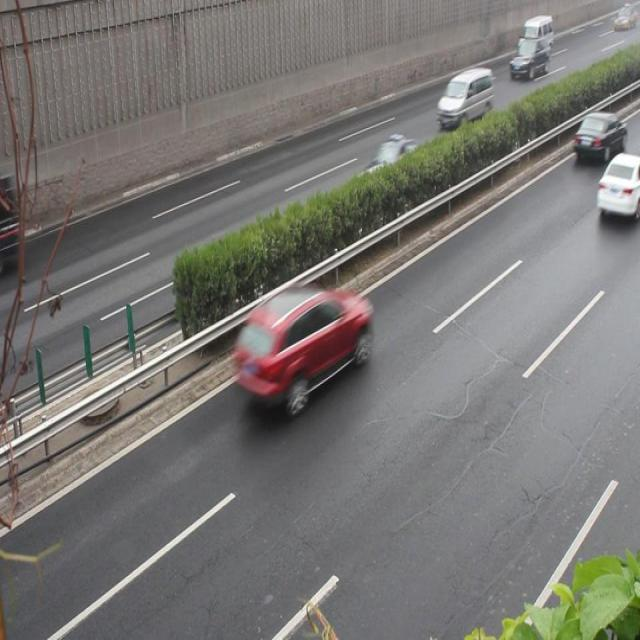car: (240, 286, 372, 406), (355, 138, 432, 208), (595, 152, 640, 217), (574, 111, 624, 158), (508, 37, 549, 84)
truck: (437, 70, 492, 126), (1, 171, 25, 270)
